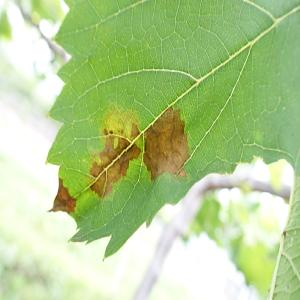Folha: (45, 0, 299, 261)
Fungo: (49, 102, 192, 214), (87, 105, 142, 199), (142, 105, 190, 181), (46, 176, 76, 215)
